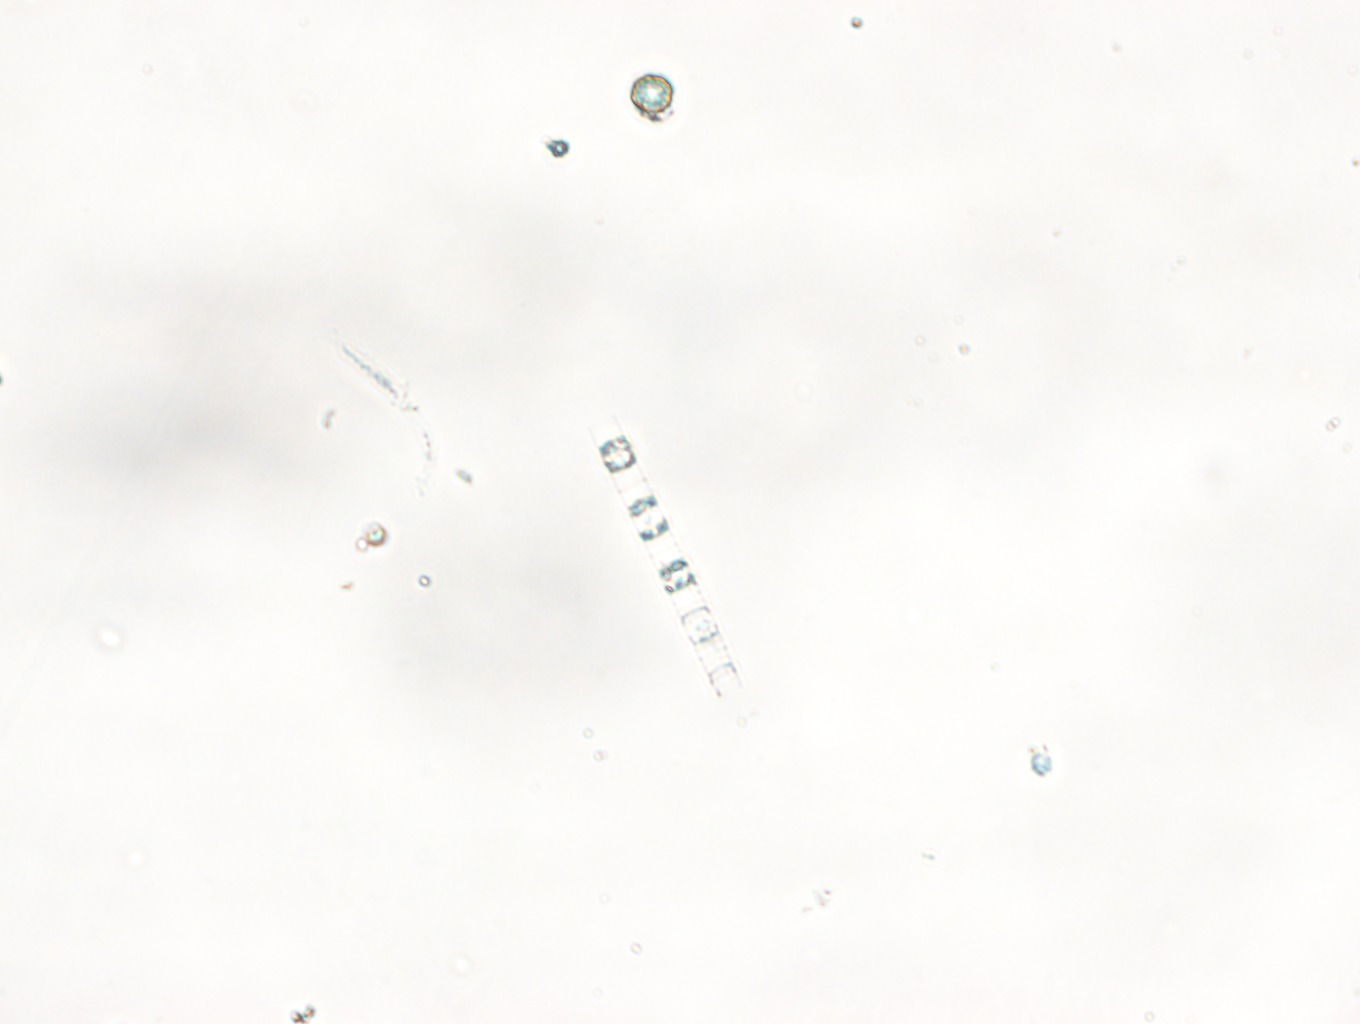skeletonema: (581, 404, 744, 703)
